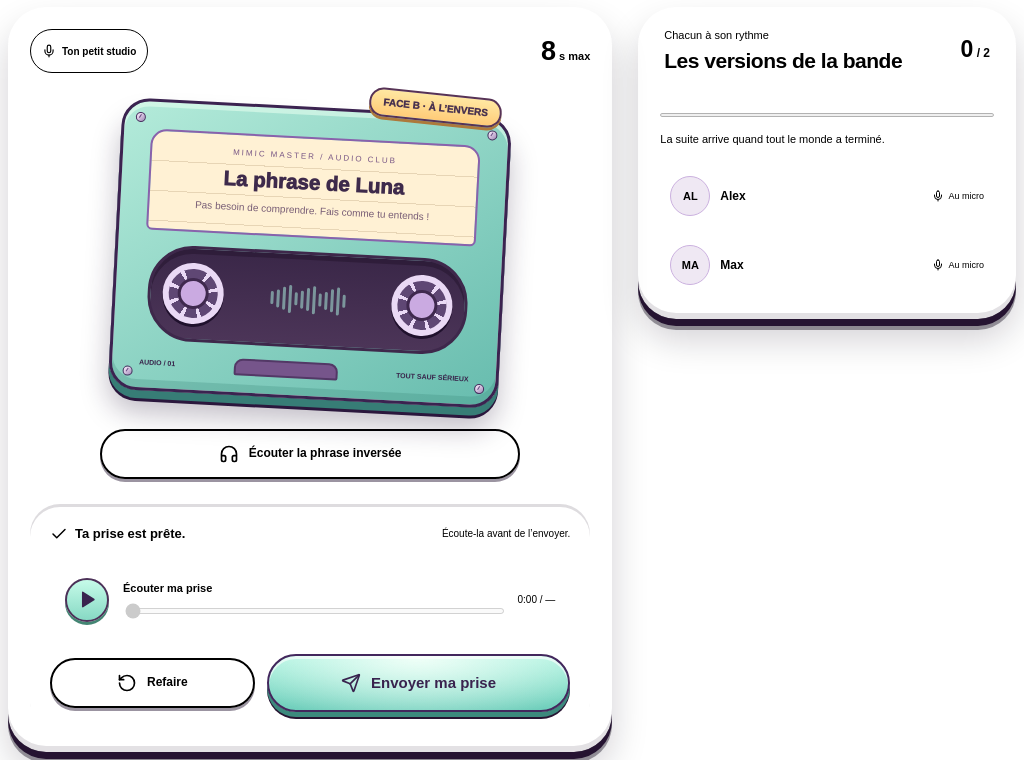
Test case: intégration des phases Audiophone › une imitation rejetée garde son retour audio et propose de réessayer
(page scrolled)
Click the button "Envoyer ma prise".
click(418, 683)  # box [267,654,570,712]
(page scrolled)
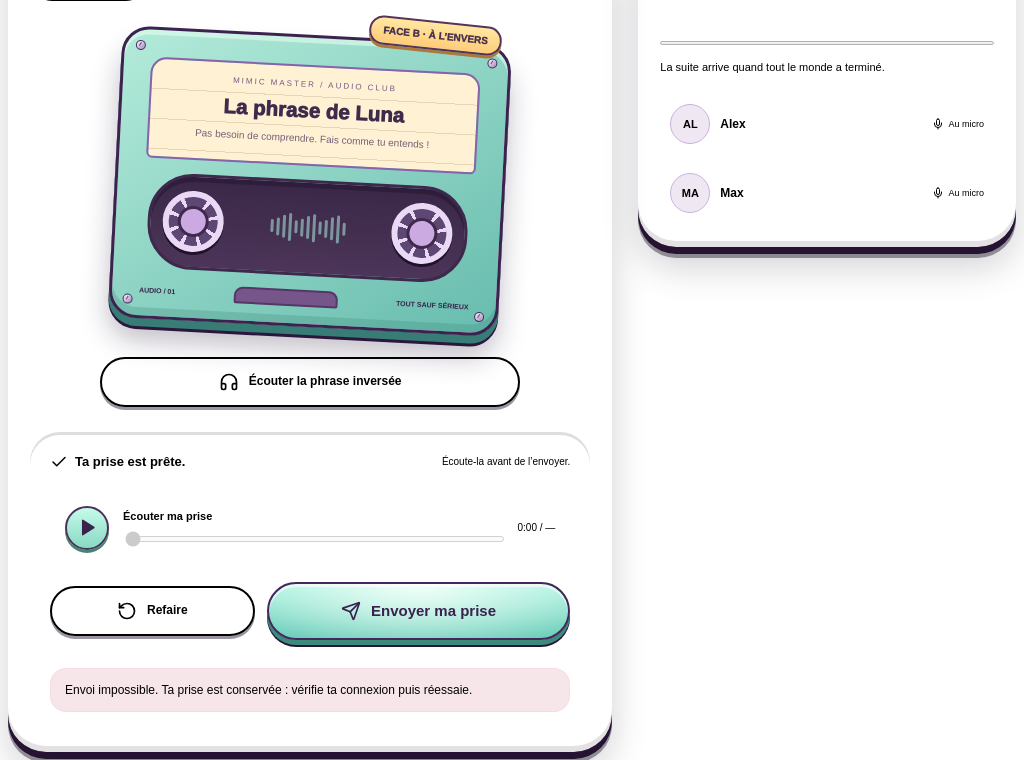
Expected: the message shows "Ta prise est conservée", [65,683,472,697]
